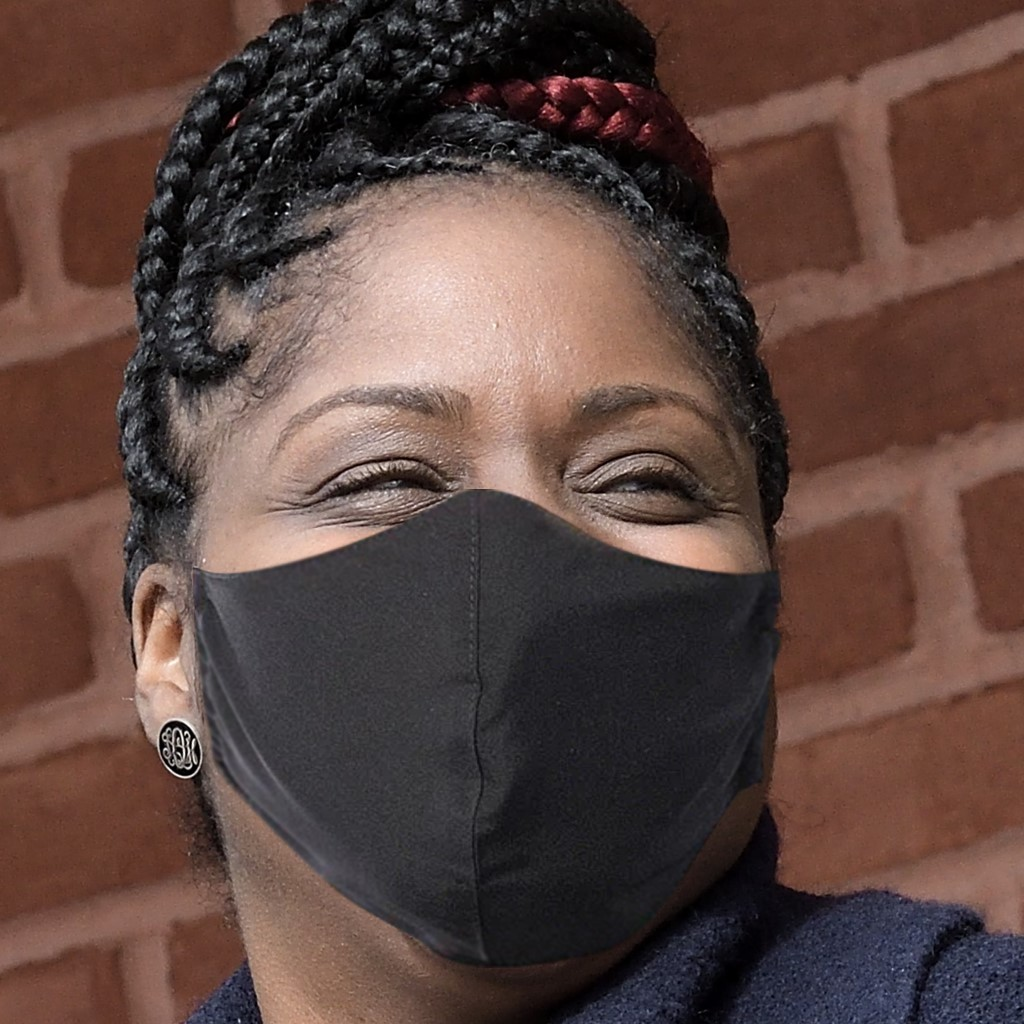con_mascara: (151, 147, 782, 957)
